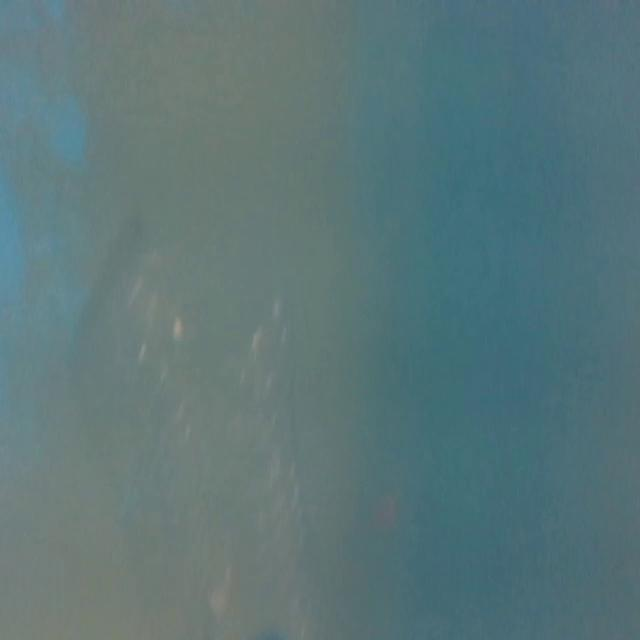plastic bottle: (107, 233, 330, 640)
